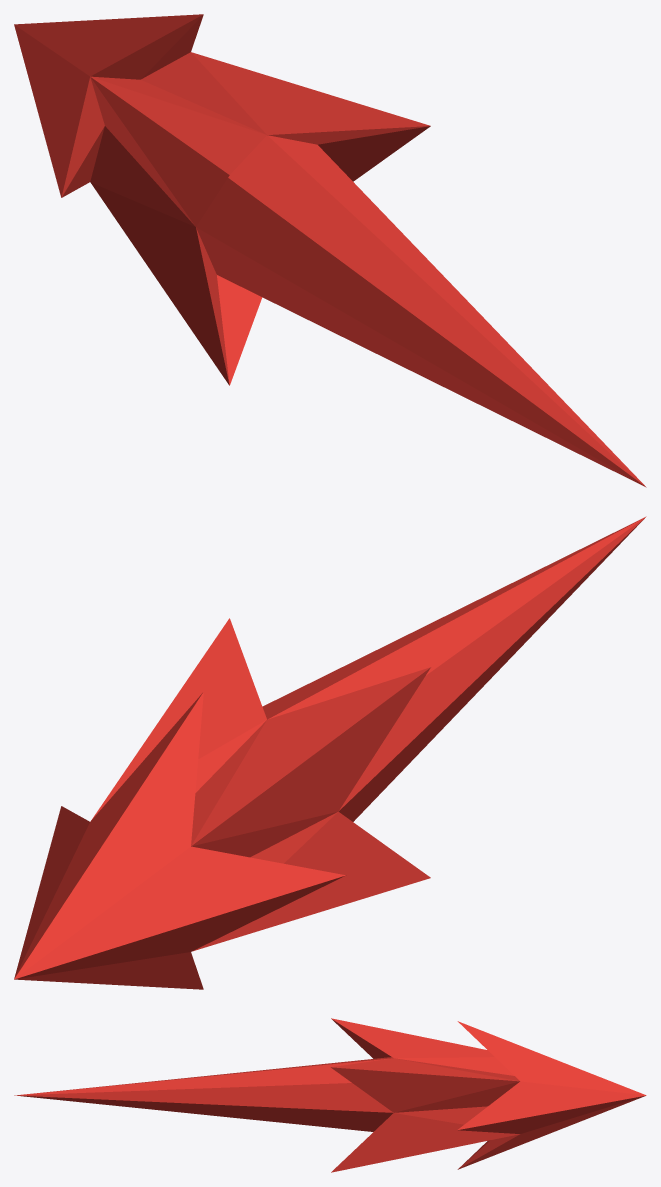
The model's file is gun_burst.FBX.
3 renders of one model, top to bottom at view 1: azimuth 30°, elevation 25°; view 2: azimuth 150°, elevation 25°; view 3: azimuth 270°, elevation 25°, orthographic. The views are drawn at different scales.
Visible parts, largest first — view 1: Cylinder001; view 2: Cylinder001; view 3: Cylinder001.
Part boxes in pixels (box(x1,y1,x2,y2)): Cylinder001: box(14, 14, 646, 487); Cylinder001: box(14, 516, 646, 989); Cylinder001: box(14, 1018, 646, 1172).
Bounding box in the file's own units: 1.3 × 1.3 × 5.
